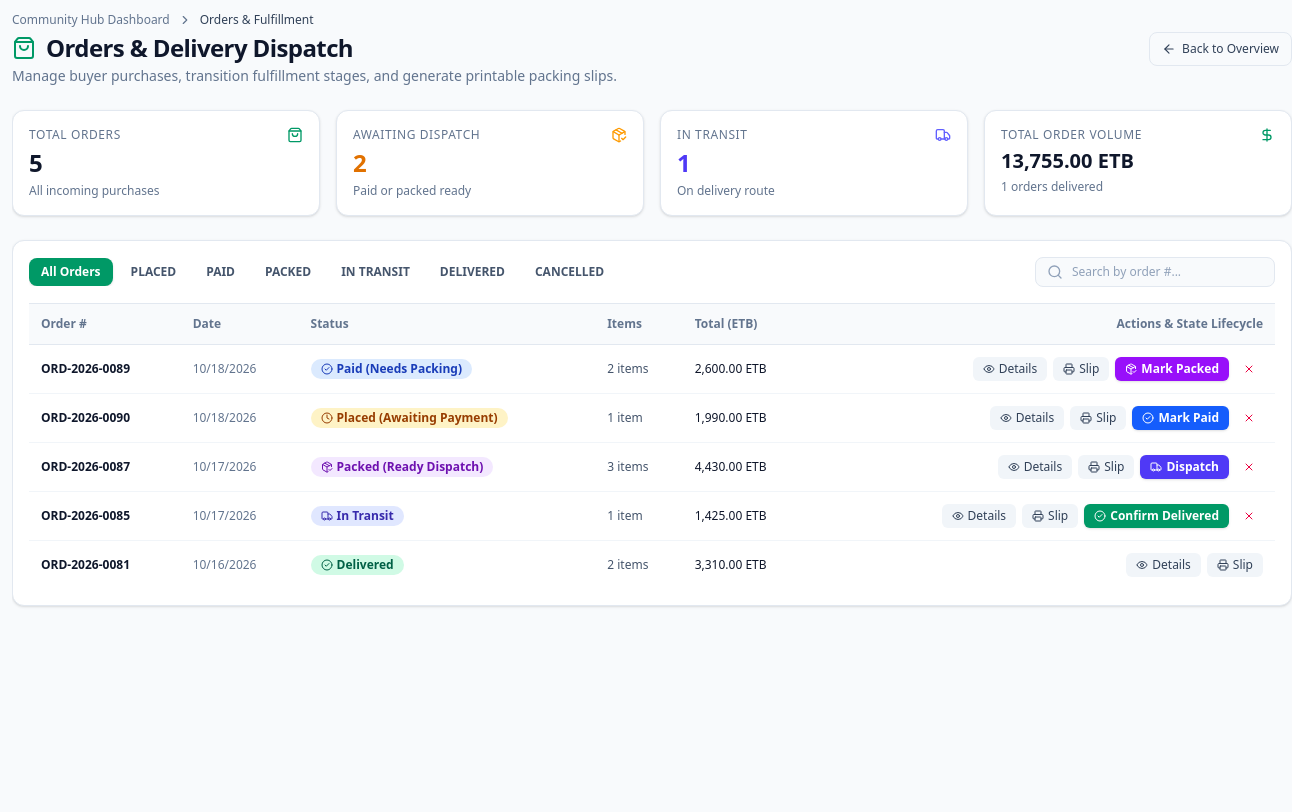
it: EnterpriseOrdersPage Component (F-909) › filters orders by status tabs
Check: the text "ORD-2026-0089" is shown, box [29,344,181,394]
# Click PAID filter tab
Click the button with test id "tab-paid": {"x": 221, "y": 272} [194,258,247,286]
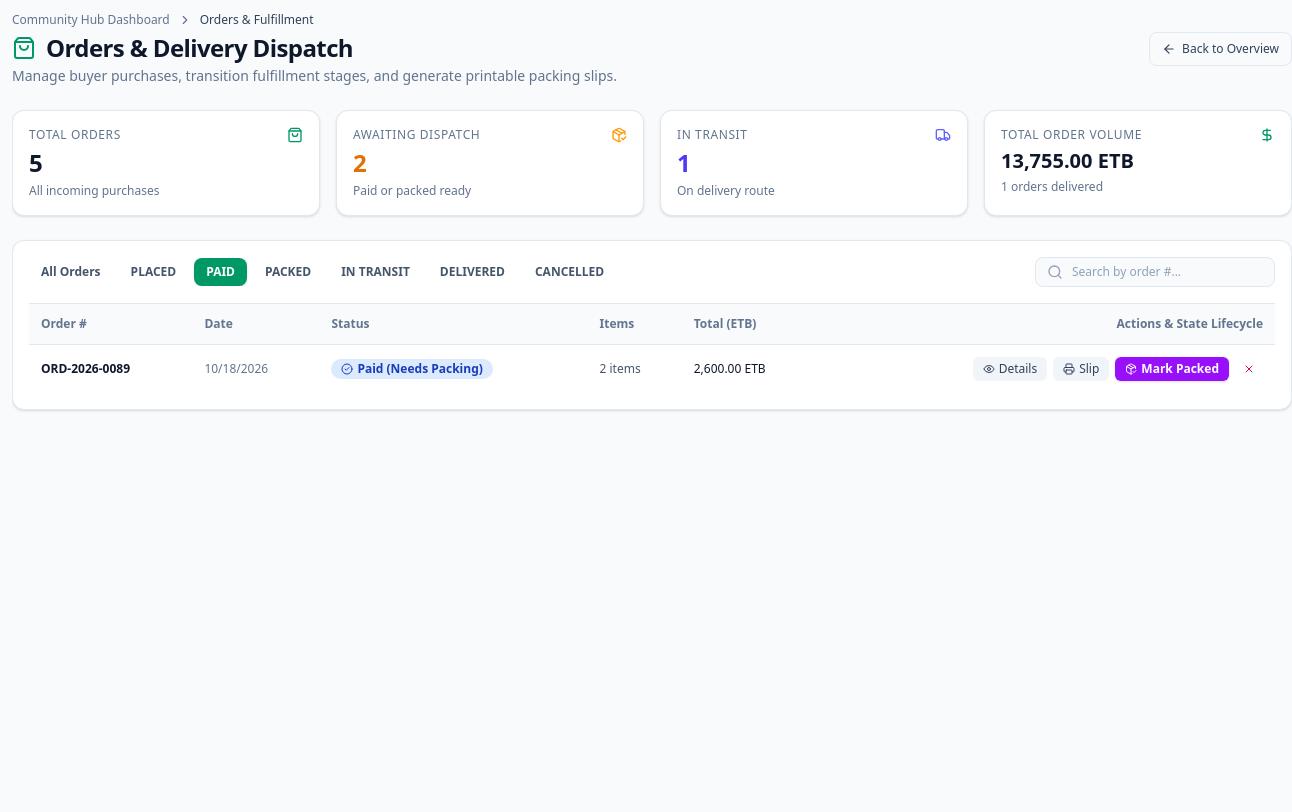
Check: the text "ORD-2026-0089" is shown, box [29,344,192,393]
Check: the text "ORD-2026-0090" is gone
Check: the text "ORD-2026-0085" is gone
# Click IN_TRANSIT tab
Click the button with test id "tab-in_transit": {"x": 376, "y": 272} [329,258,422,286]
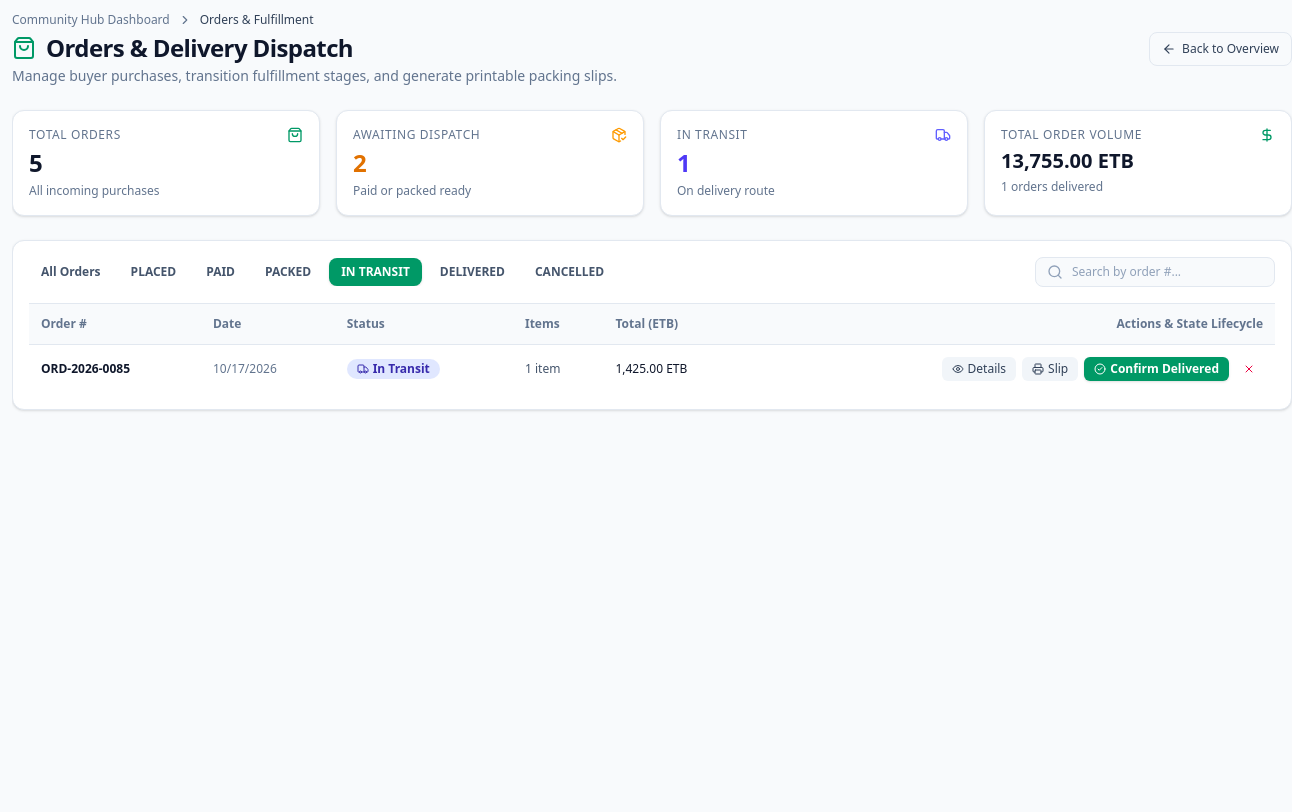
Check: the text "ORD-2026-0085" is shown, box [29,344,201,393]
Check: the text "ORD-2026-0089" is gone
# Click ALL tab to restore
Click the button with test id "tab-all": {"x": 71, "y": 272} [29,258,113,286]
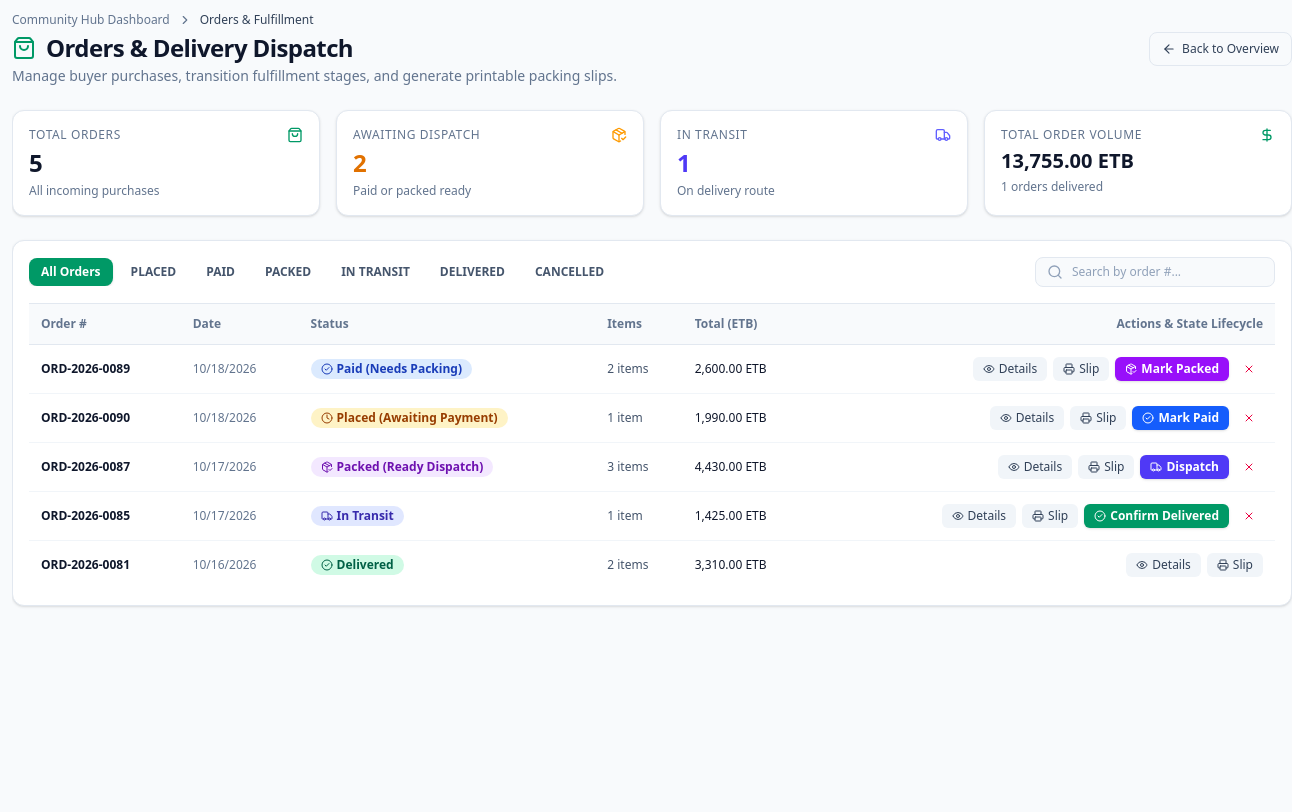
Check: the text "ORD-2026-0089" is shown, box [29,344,181,394]
Check: the text "ORD-2026-0090" is shown, box [29,394,181,442]
